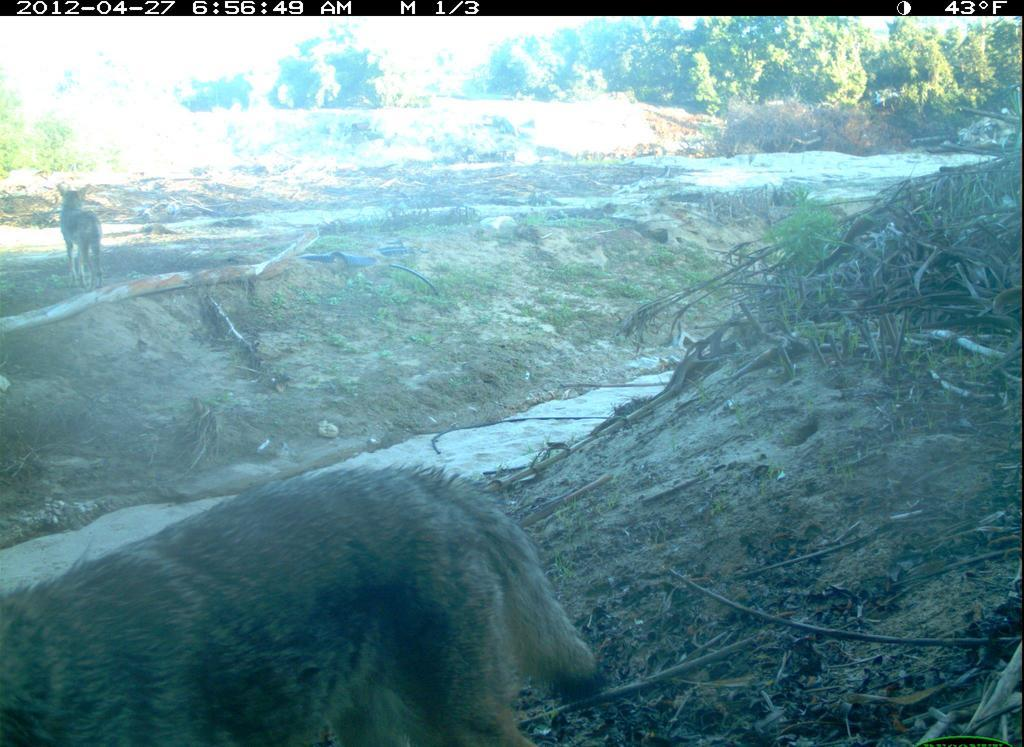coyote: (1, 461, 609, 747), (52, 180, 116, 304)
